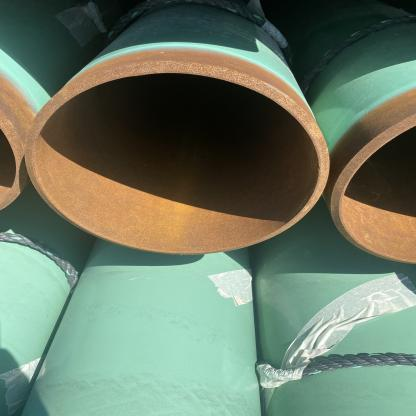clean: (288, 136, 337, 186)
